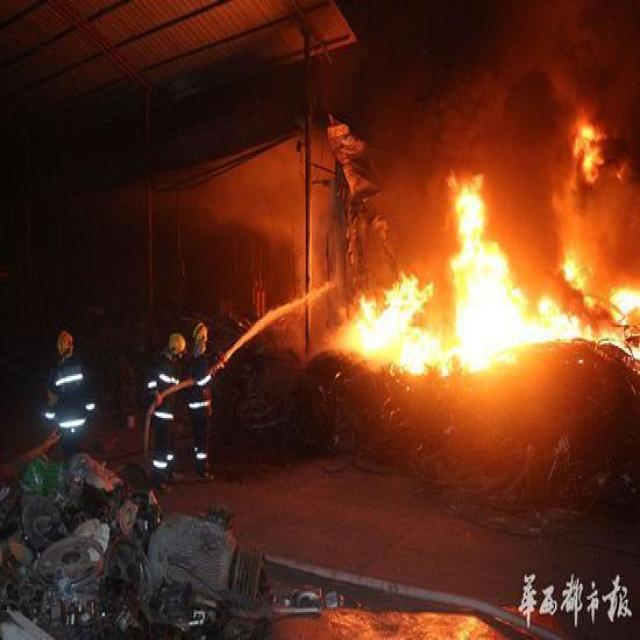fire: (308, 128, 636, 386)
smoke: (360, 2, 626, 178)
